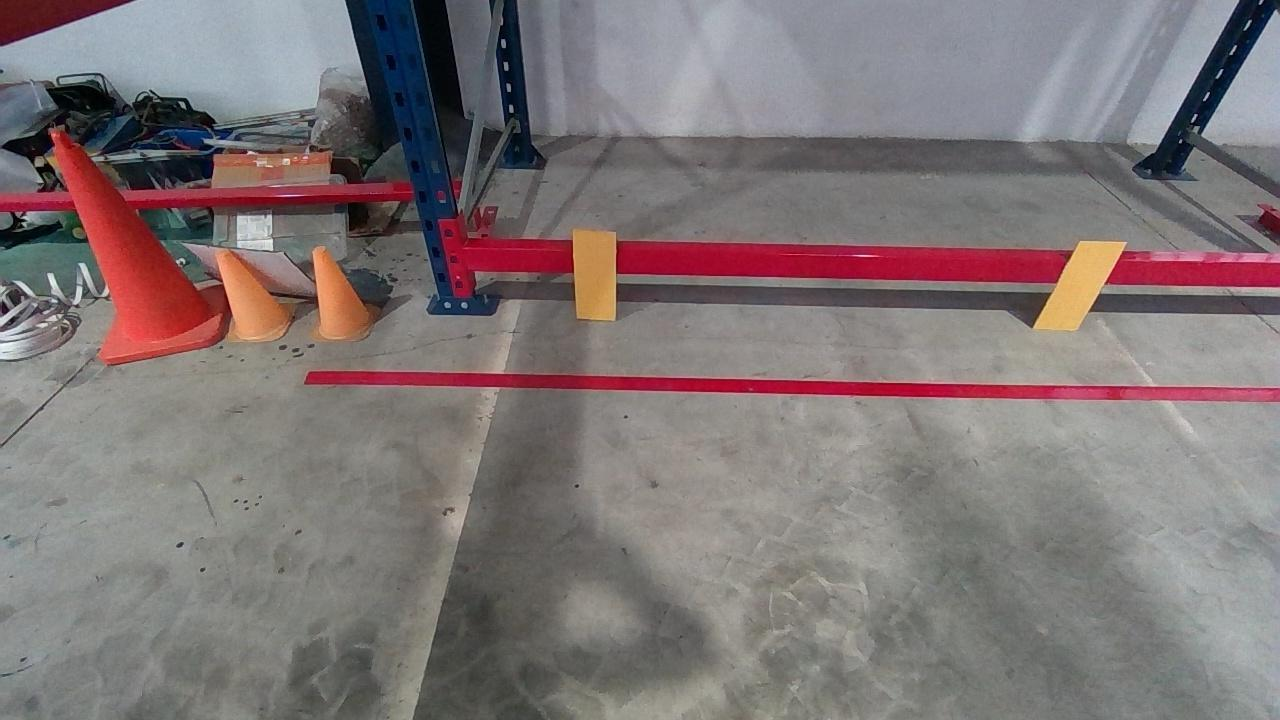h_rack: (472, 249, 1277, 288)
orange_strip: (1031, 239, 1131, 331), (571, 229, 617, 319)
red_line: (303, 370, 1278, 401)
